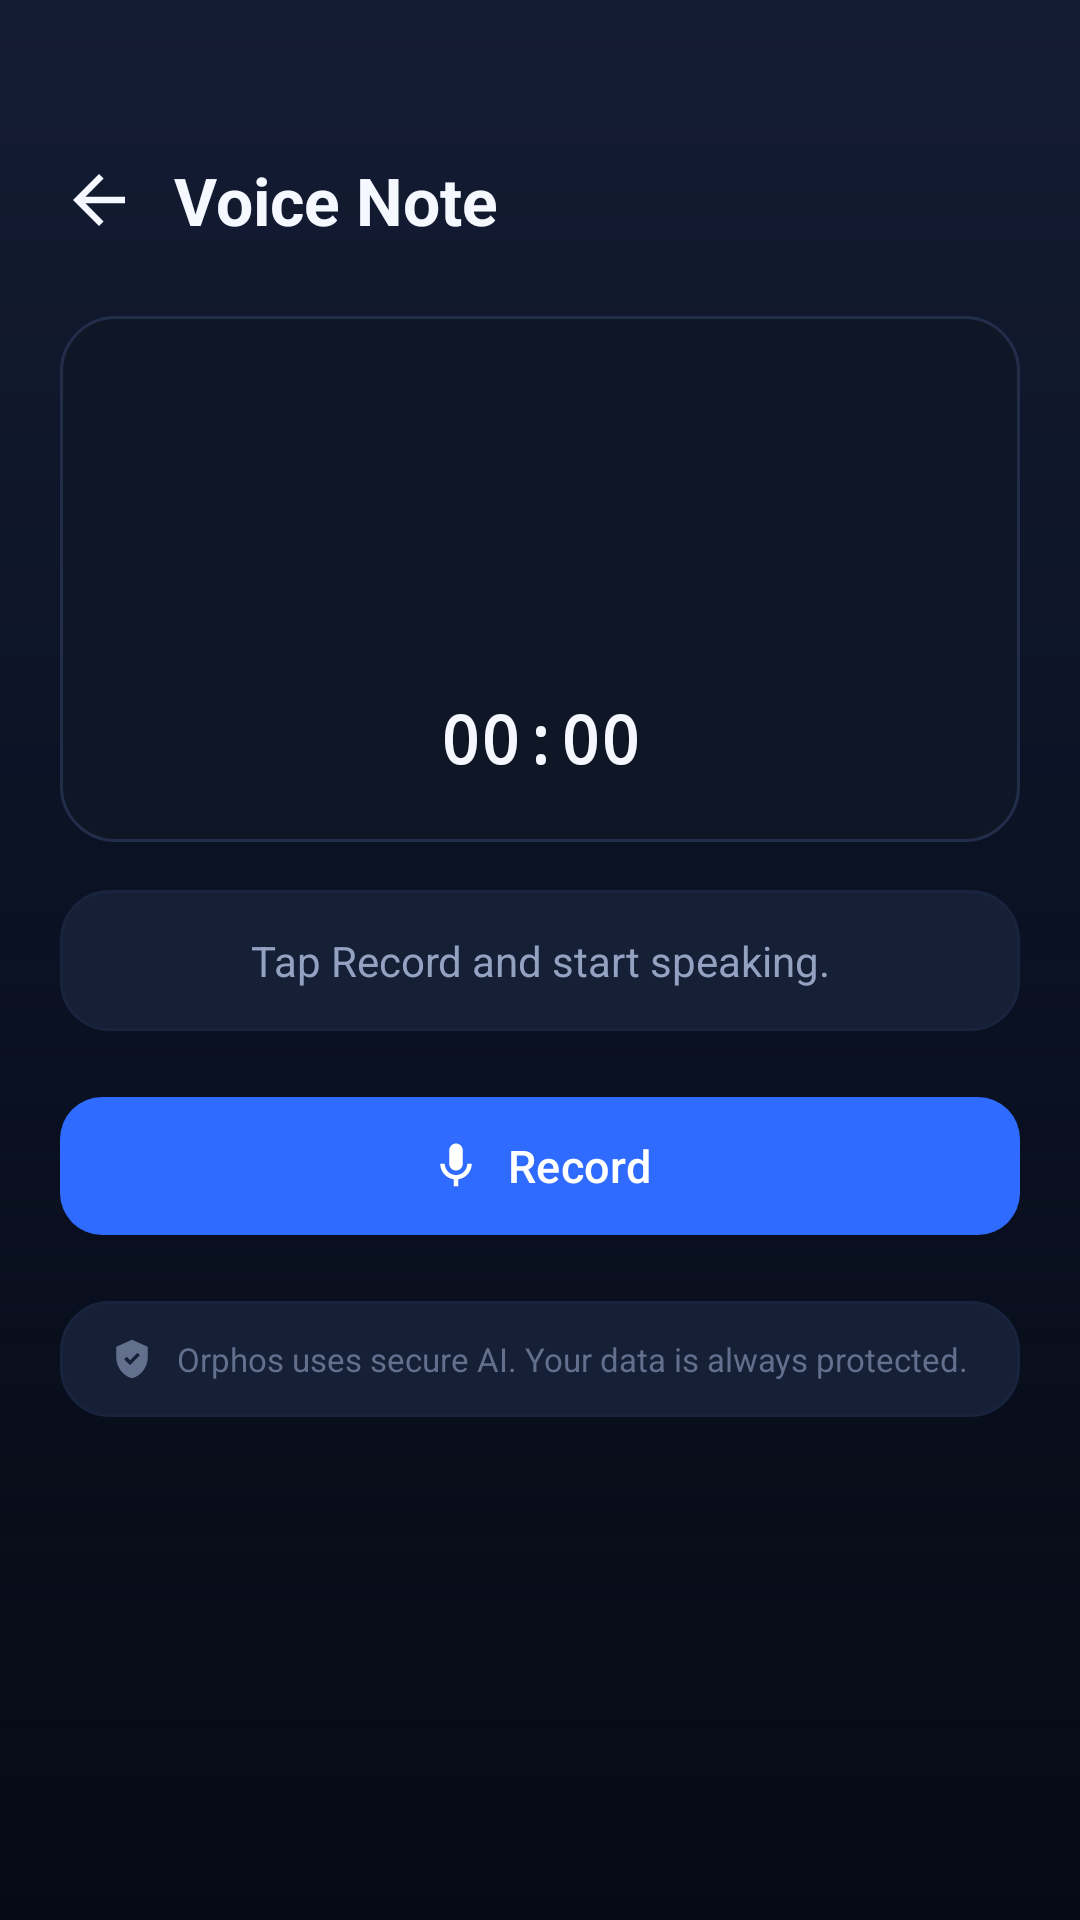

Named icons in this screenshot (1080 x 1920) and their centers, (x,y):
arrow back: (99,200)
shield: (132,1359)
